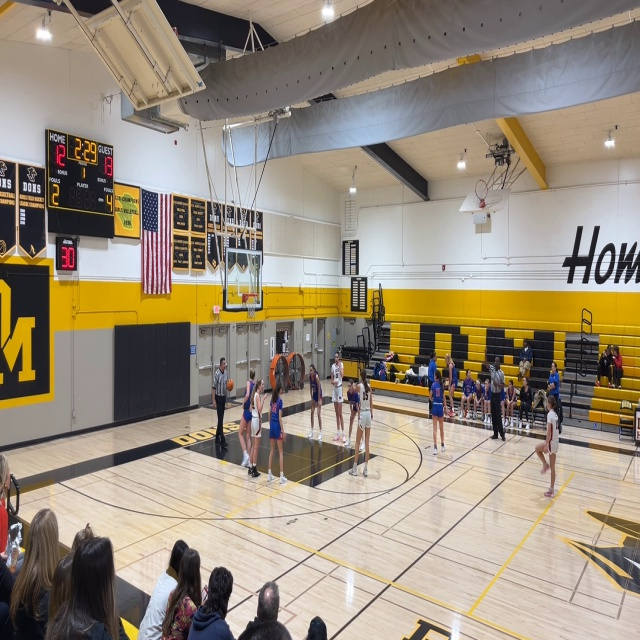Basketball: (226, 379, 234, 391)
